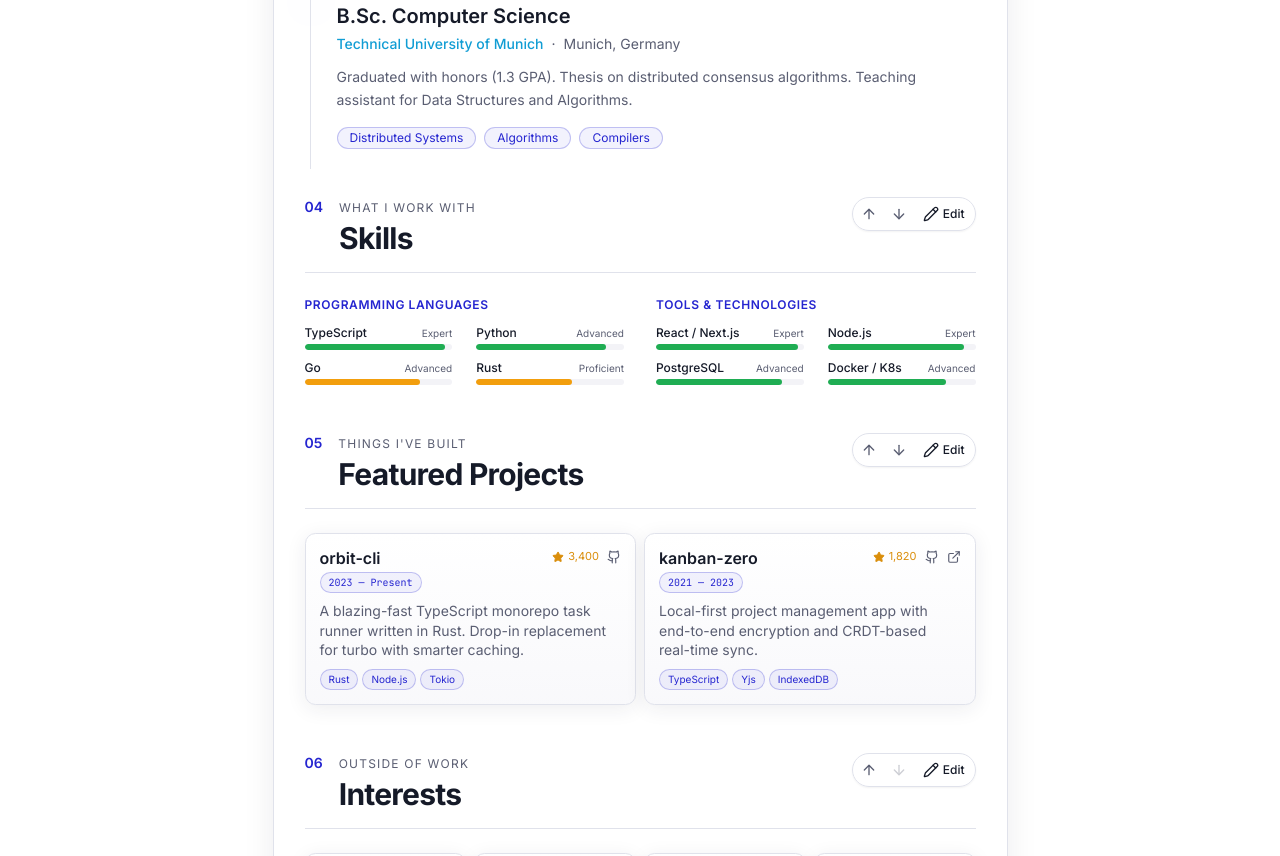
Test case: color theme + section designs › switches projects to the card-free plain-rows design
Later steps or results of the test are not shown.
(page scrolled)
expect the element with class "cv-project-card" that starts with "orbit-cli" is shown: met, box [304,533,636,705]
Click the button "Edit" in the row of "Featured Projects": (944, 450) [915,436,972,464]
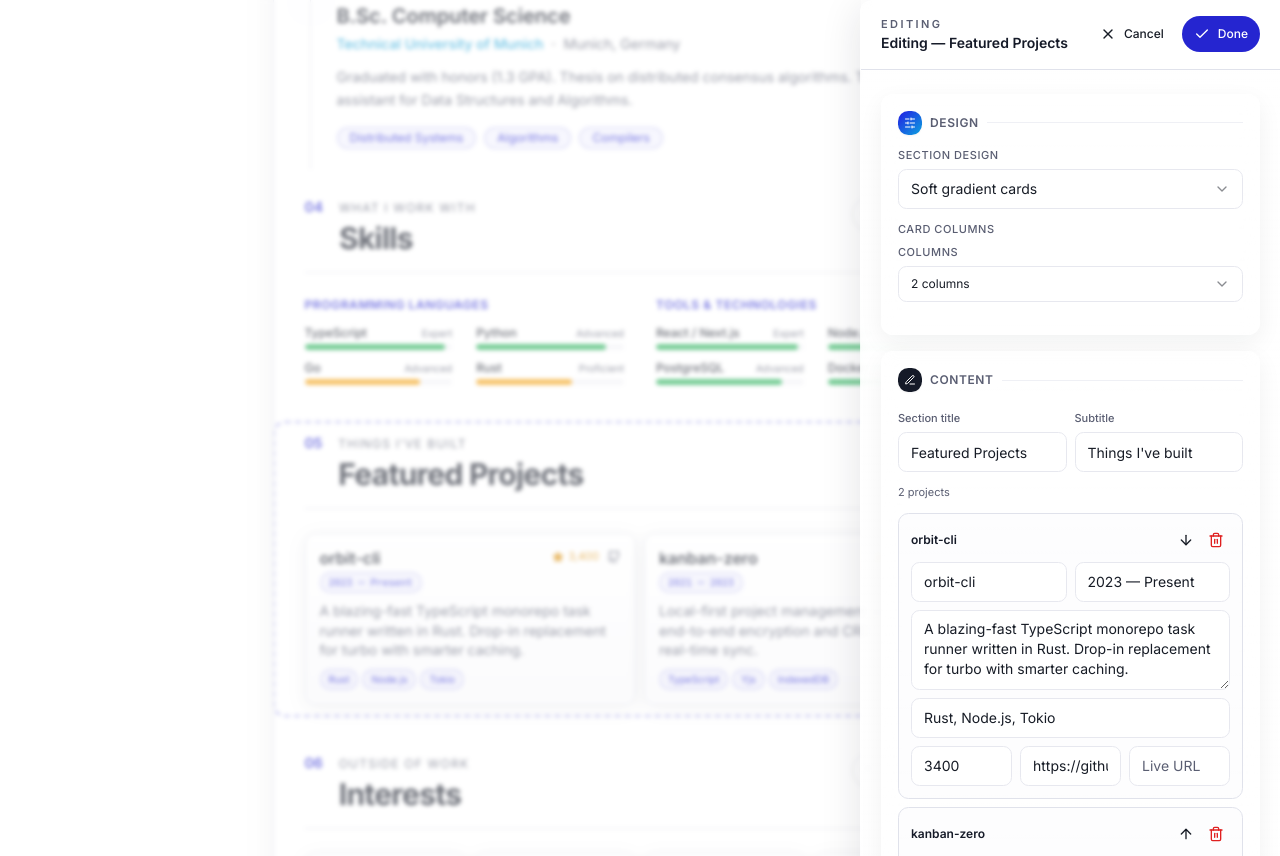
expect the heading "Editing — Featured Projects" is shown: met, box [881,32,1068,52]
